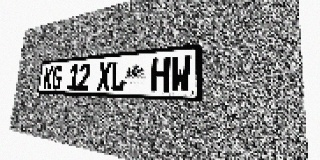1: (67, 64, 80, 90)
2: (77, 63, 91, 90)
G: (51, 65, 63, 90)
H: (150, 56, 170, 92)
K: (43, 66, 54, 90)
L: (110, 60, 126, 91)
W: (170, 55, 191, 93)
X: (97, 61, 112, 91)
